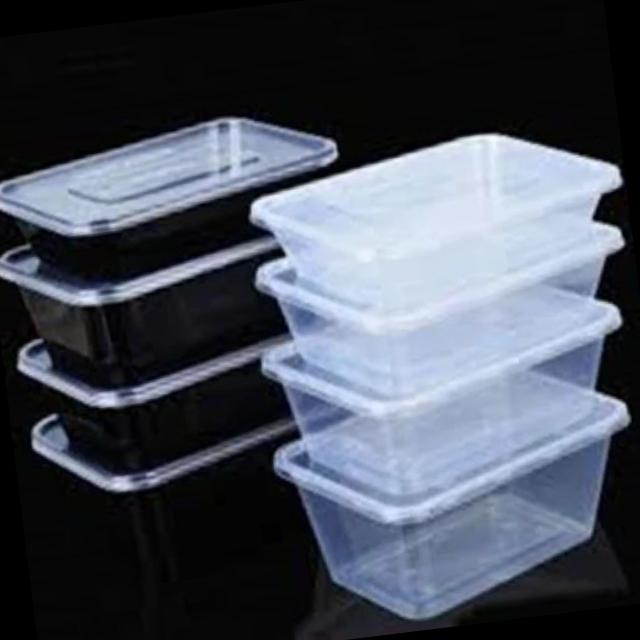plastic_box: (271, 386, 640, 623), (0, 95, 372, 274)
